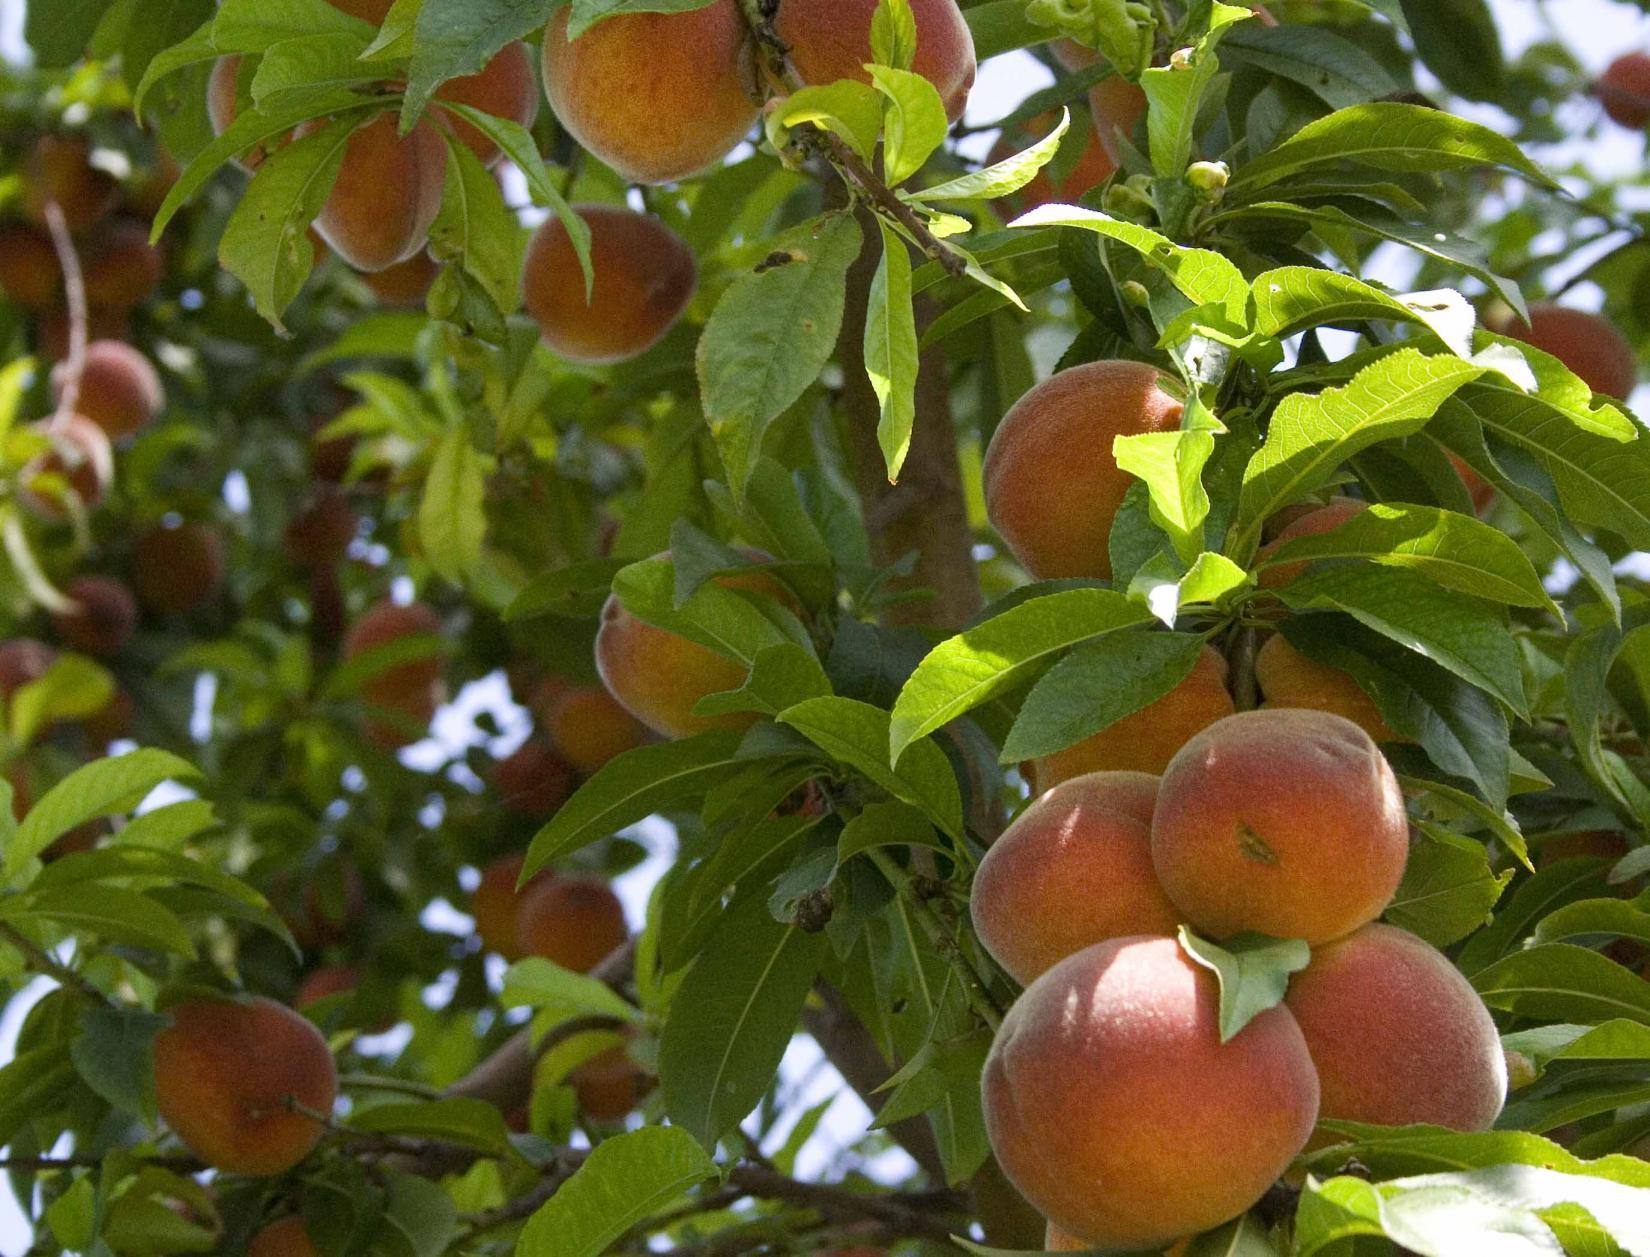Peach leaf: (1221, 341, 1530, 562), (882, 589, 1146, 766), (1302, 614, 1511, 819), (645, 927, 818, 1157), (1280, 562, 1536, 713), (1249, 496, 1566, 613), (511, 731, 741, 883), (1228, 102, 1562, 193), (997, 630, 1205, 768), (781, 696, 964, 841), (851, 244, 923, 491), (907, 110, 1073, 202), (865, 54, 942, 202)
